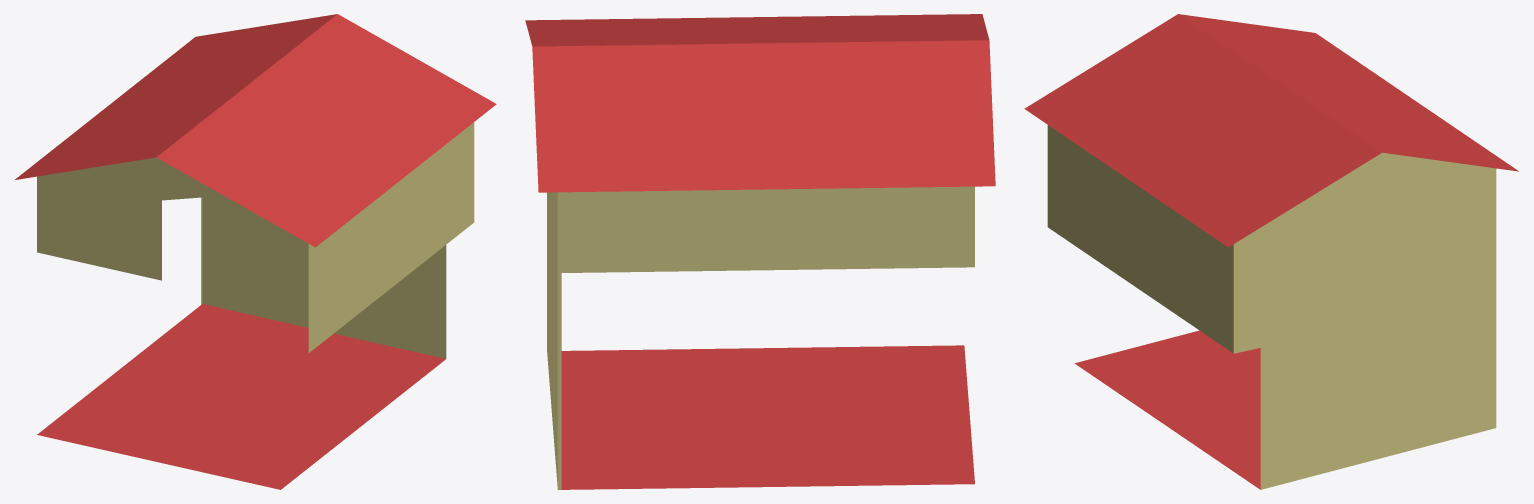
3 renders of one model, left to right at view 1: azimuth 30°, elevation 25°; view 2: azimuth 150°, elevation 25°; view 3: azimuth 270°, elevation 25°, orthographic. The views are drawn at different scales.
Size of the model in its own units: 22.67 by 22.05 by 15.41.
